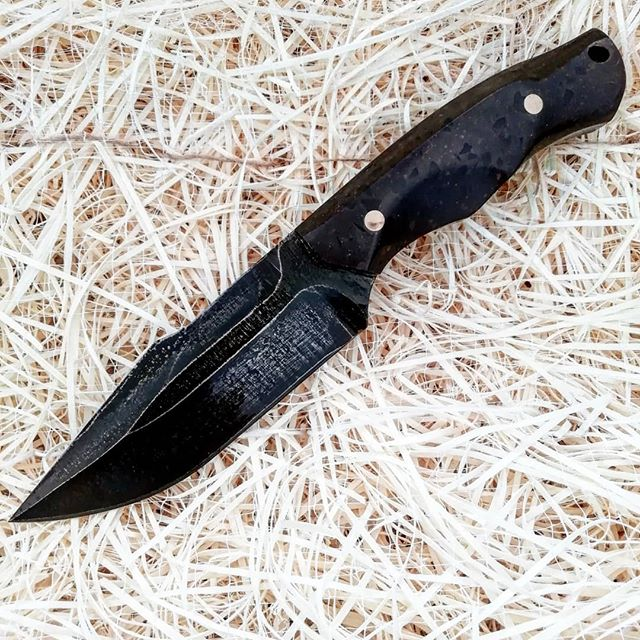knife: (8, 25, 627, 521)
